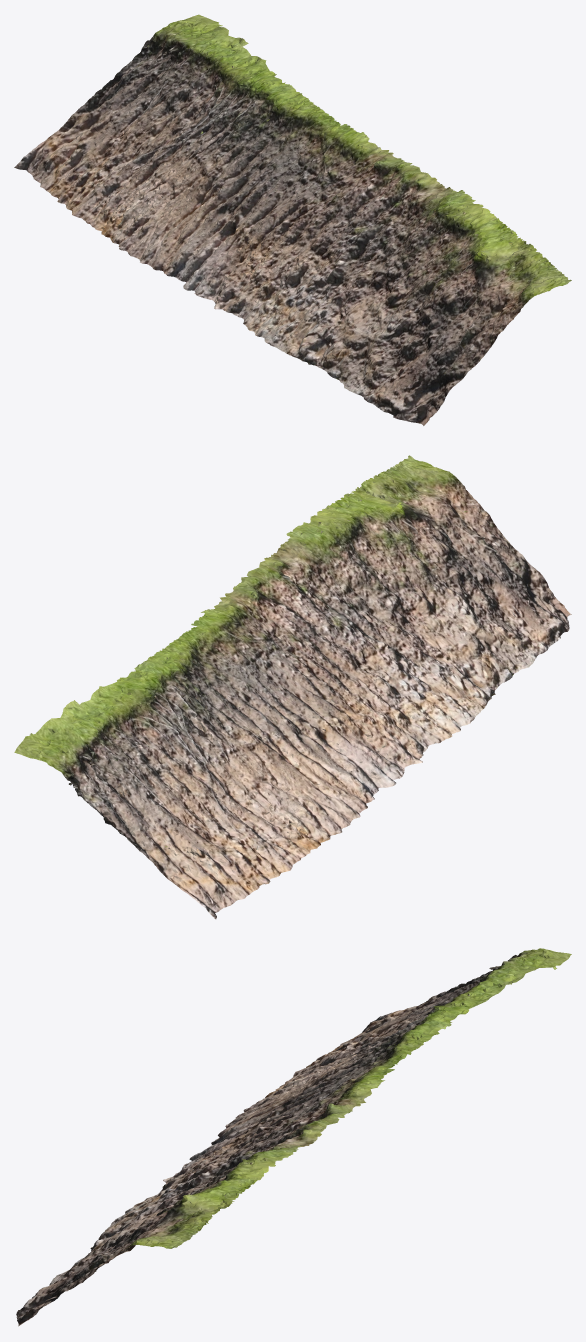
3 renders of one model, top to bottom at view 1: azimuth 30°, elevation 25°; view 2: azimuth 150°, elevation 25°; view 3: azimuth 330°, elevation 25°, orthographic. The views are drawn at different scales.
Size of the model in its own units: 4.72 by 2.75 by 15.26.
1 material, 1 textured.
